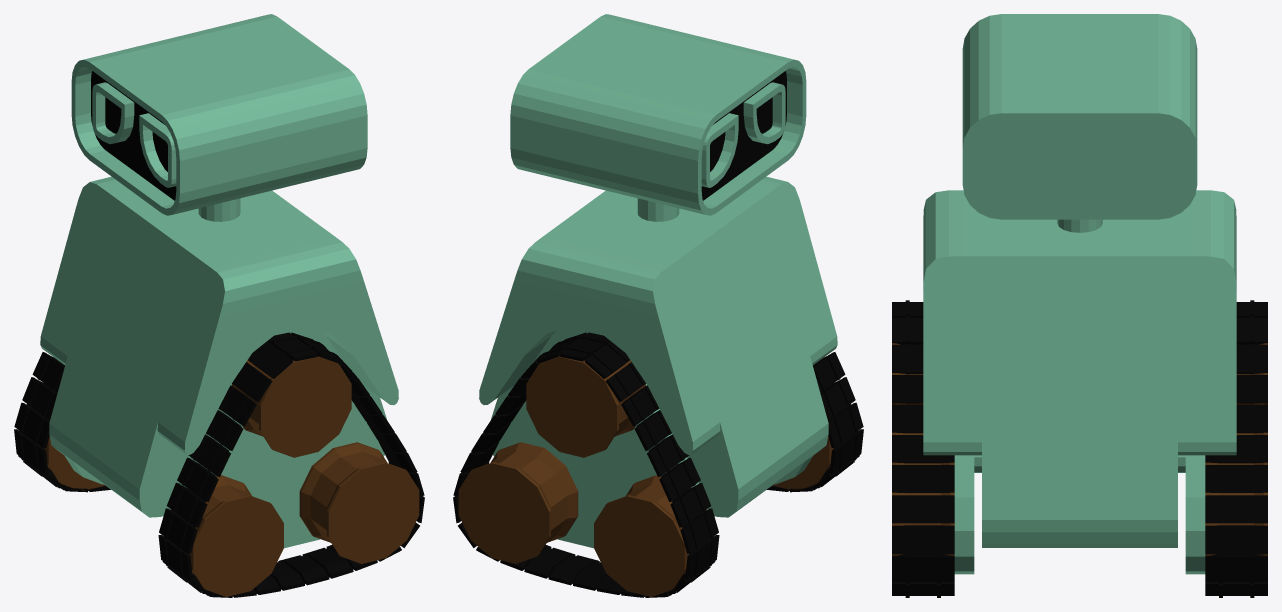
File: Robot.glb
3 renders of one model, left to right at view 1: azimuth 30°, elevation 25°; view 2: azimuth 150°, elevation 25°; view 3: azimuth 270°, elevation 25°, orthographic. The views are drawn at different scales.
Visible parts, largest first — view 1: RobotBody, LeftWheel, LeftWheelTrack, RightWheelTrack, RightWheel; view 2: RobotBody, RightWheel, RightWheelTrack, LeftWheelTrack, LeftWheel; view 3: RobotBody, LeftWheelTrack, RightWheelTrack, LeftWheel, RightWheel.
Boxes of the visible parts, bbox=[...] form: RobotBody: bbox=[40, 14, 398, 517]; LeftWheel: bbox=[170, 356, 419, 596]; LeftWheelTrack: bbox=[158, 332, 424, 597]; RightWheelTrack: bbox=[14, 352, 110, 492]; RightWheel: bbox=[26, 404, 105, 490]; RobotBody: bbox=[479, 14, 837, 517]; RightWheel: bbox=[458, 356, 707, 596]; RightWheelTrack: bbox=[453, 332, 719, 597]; LeftWheelTrack: bbox=[767, 352, 863, 492]; LeftWheel: bbox=[772, 404, 851, 490]; RobotBody: bbox=[923, 14, 1236, 547]; LeftWheelTrack: bbox=[892, 300, 954, 597]; RightWheelTrack: bbox=[1205, 300, 1267, 597]; LeftWheel: bbox=[892, 343, 981, 574]; RightWheel: bbox=[1178, 343, 1267, 574].
Bounding box in the file's own units: 0.8 × 1.4 × 0.96.
